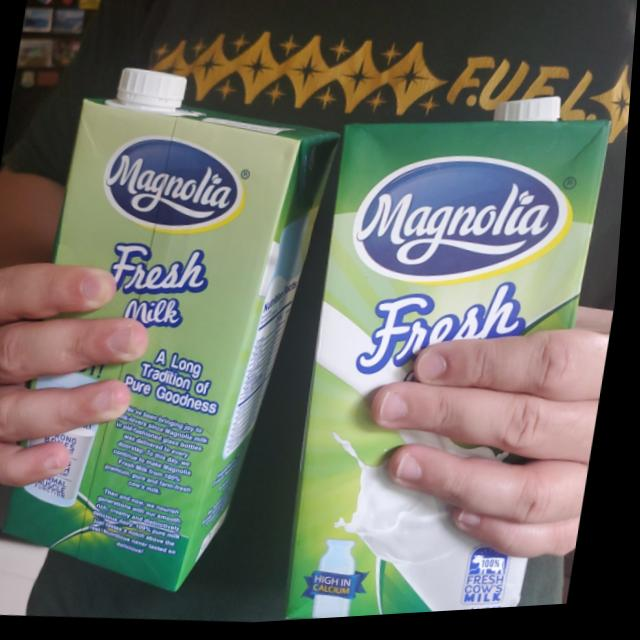milk: (0, 54, 341, 612), (273, 82, 615, 626)
